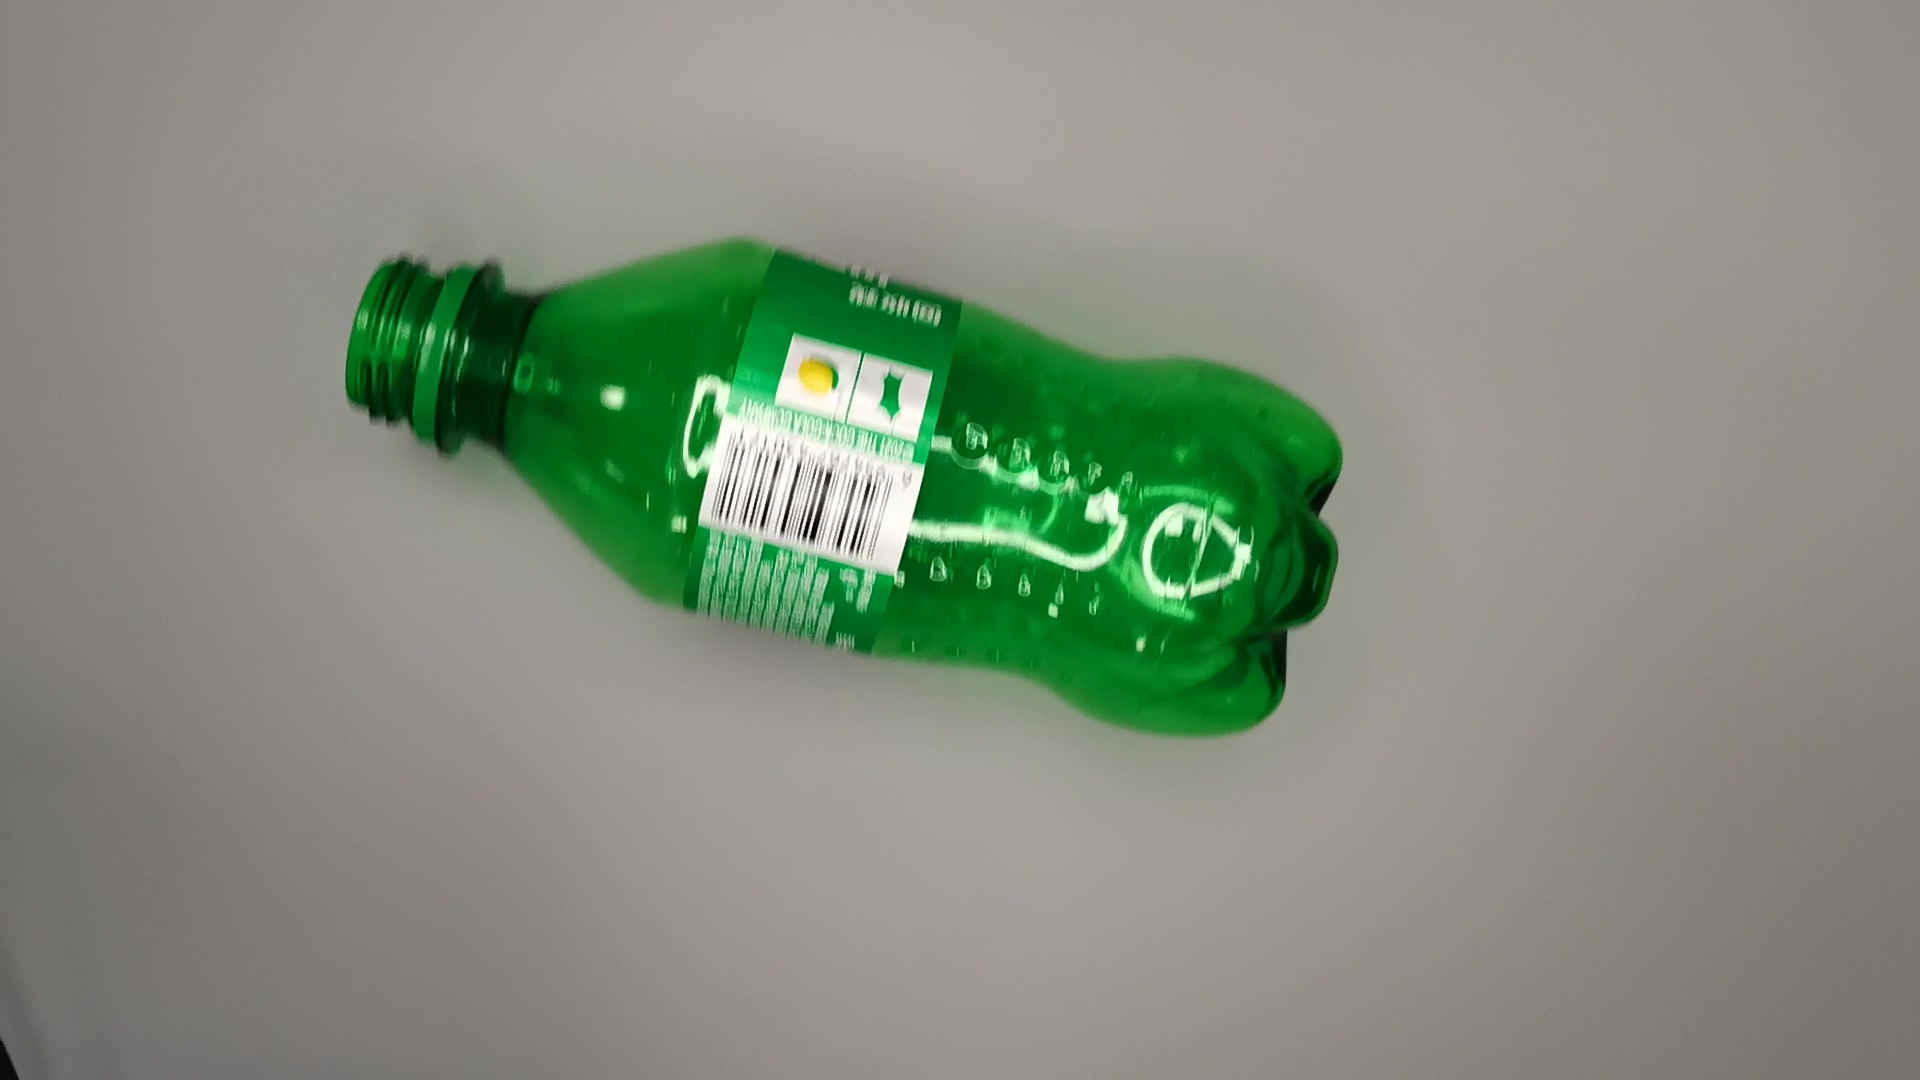bottle: (340, 222, 1356, 748)
